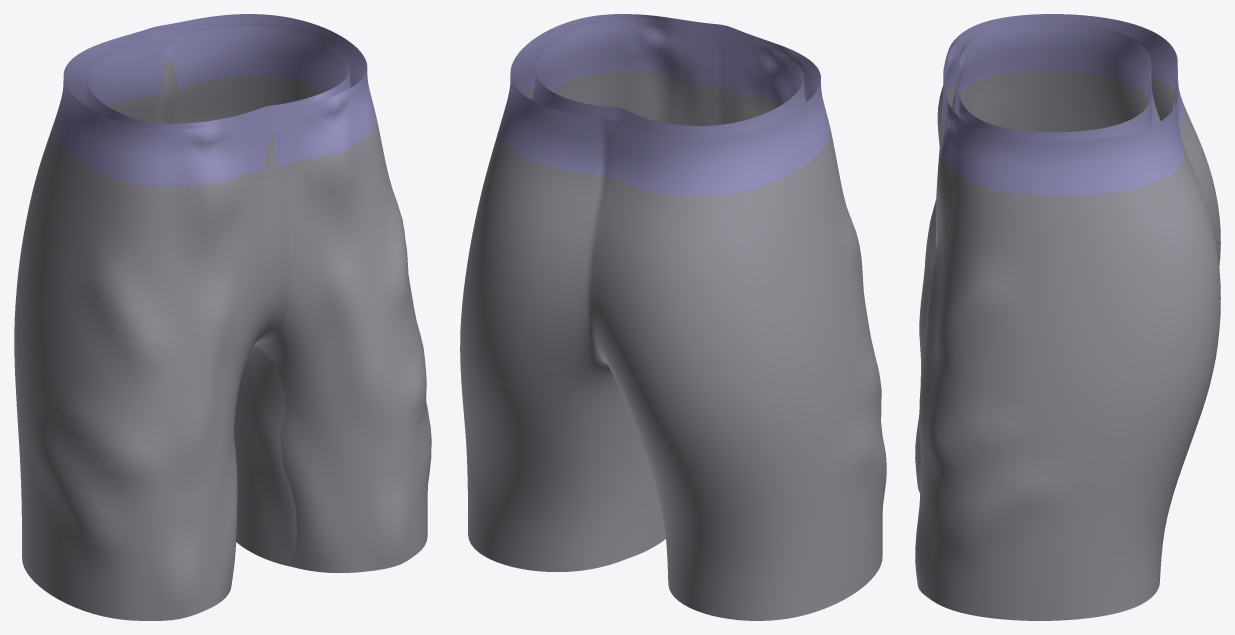
File: short.fbx
The picture shows the model from 3 angles, left to right: view 1: azimuth 30°, elevation 25°; view 2: azimuth 150°, elevation 25°; view 3: azimuth 270°, elevation 25°; orthographic projection. The views are drawn at different scales.
Parts seen in each view (by area): view 1: Cube, Cube.001; view 2: Cube, Cube.001; view 3: Cube, Cube.001.
Boxes of the visible parts, x1=… form: Cube: x1=14, y1=14, x2=431, y2=620; Cube.001: x1=84, y1=26, x2=350, y2=566; Cube: x1=460, y1=14, x2=886, y2=620; Cube.001: x1=532, y1=20, x2=806, y2=557; Cube: x1=915, y1=14, x2=1220, y2=620; Cube.001: x1=952, y1=22, x2=1160, y2=139.
Size of the model in its own units: 4 by 5 by 2.99.
